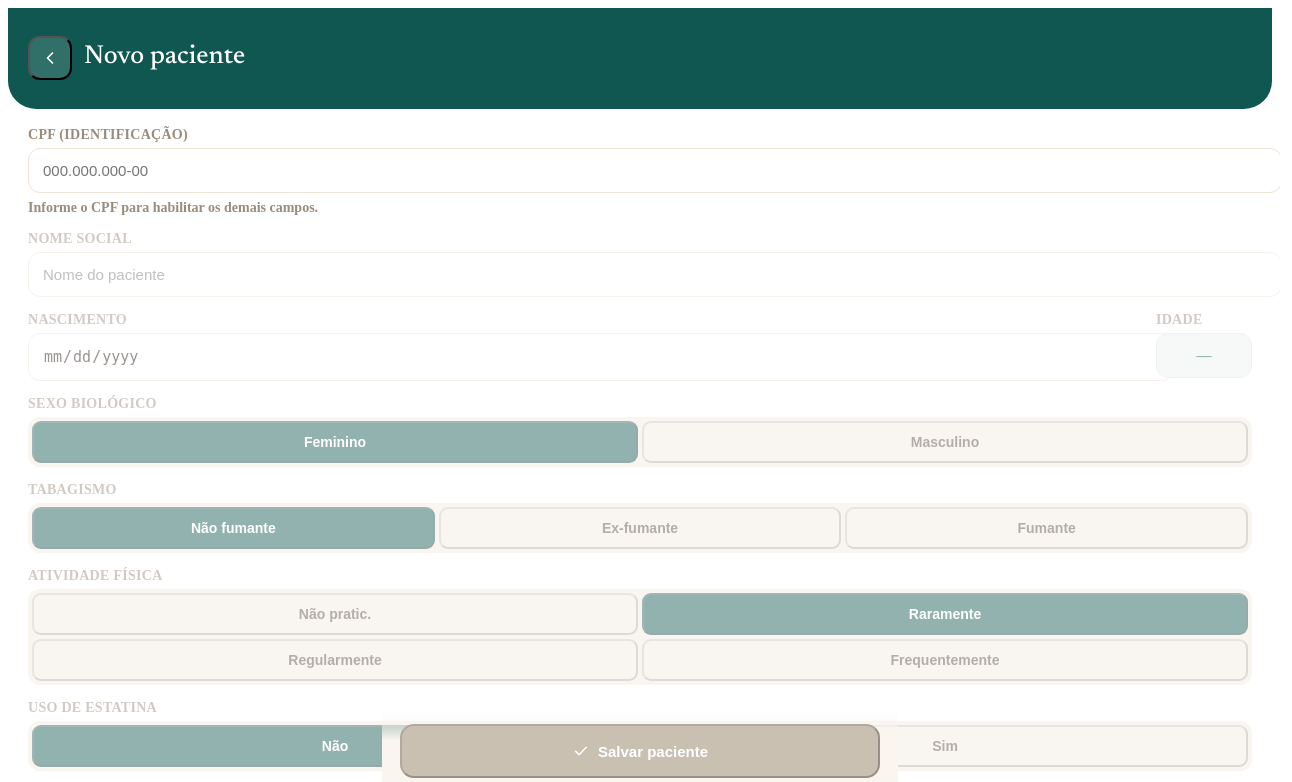
Cadastrar paciente (UC02) › fluxo alternativo: identificador já cadastrado avisa e oferece ver o cadastro existente
The image size is (1292, 782).
Type "11144477735" into the field named "CPF (identificação)" at {"x": 654, "y": 171}, box [28,148,1280,193]
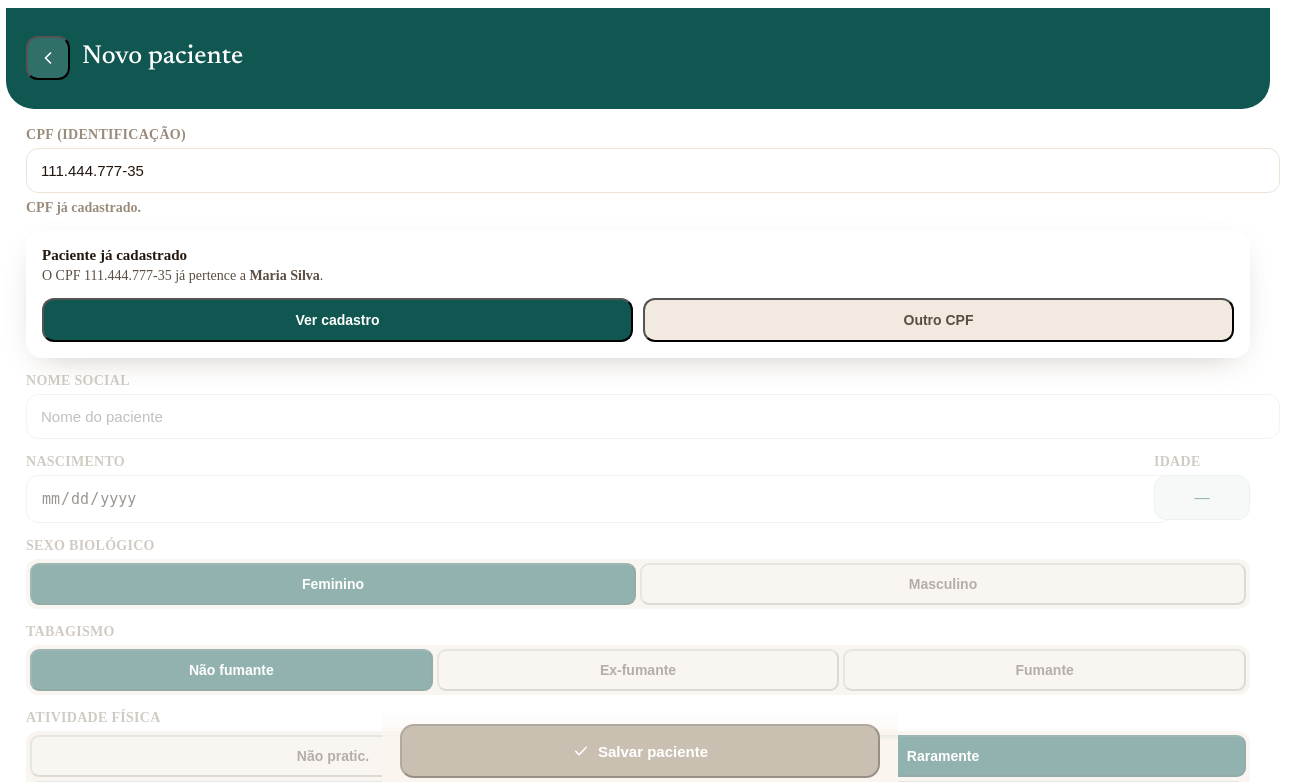
expect the text "Paciente já cadastrado" is shown: met, box [42,247,187,263]
expect the text "Maria Silva" is shown: met, box [249,268,320,283]
expect the button "Ver cadastro" is shown: met, box [42,298,633,342]
